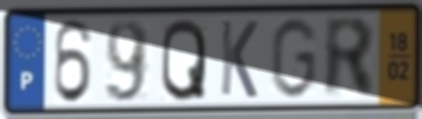6: (52, 17, 94, 107)
9: (101, 17, 154, 104)
G: (268, 15, 320, 102)
K: (218, 17, 260, 101)
Q: (158, 16, 209, 105)
R: (322, 15, 378, 102)
